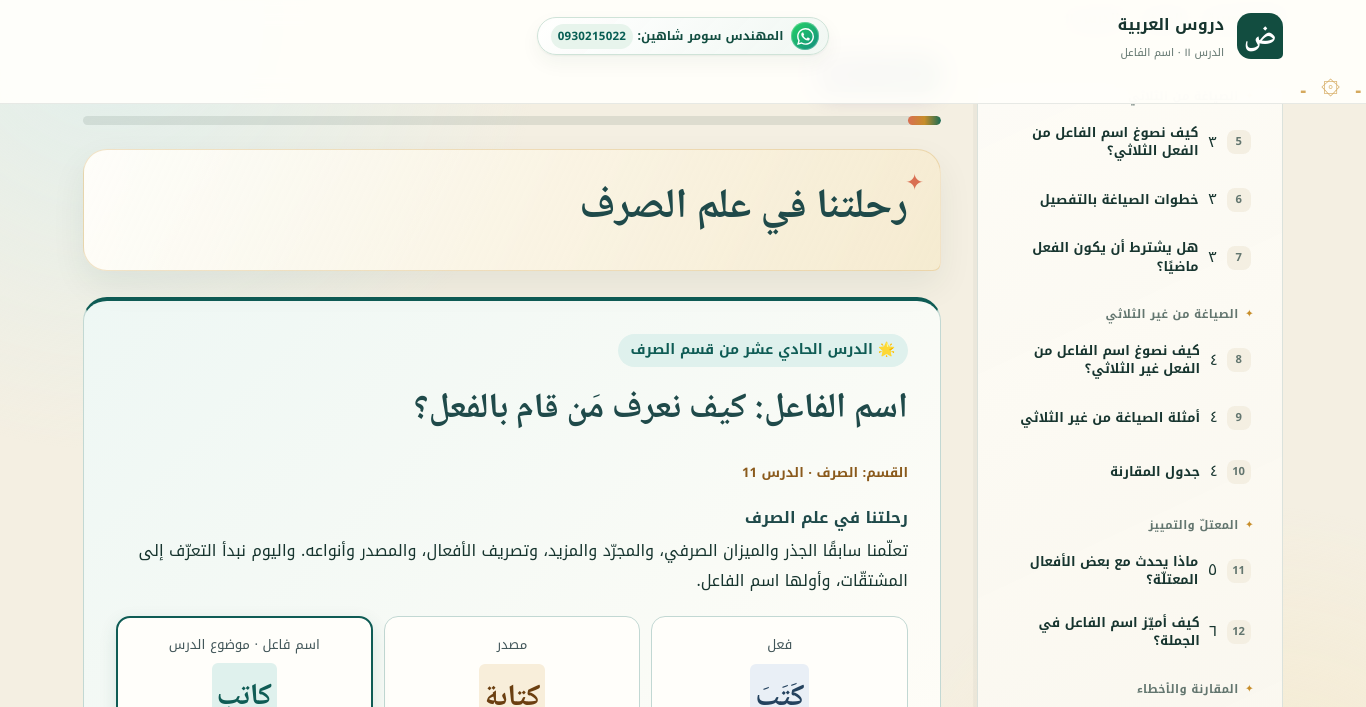
morphology 11 — المسار والتسجيل وعرض المصدر › يعرض أمثلة غير الثلاثي سلاسلَ: الماضي ← المضارع ← اسم الفاعل، مع تنبيه «مُفيدًا»
(page scrolled)
Click the button "9 ٤ أمثلة الصياغة من غير الثلاثي". click: (1130, 418)
box: top-left (998, 393), bottom-right (1262, 442)
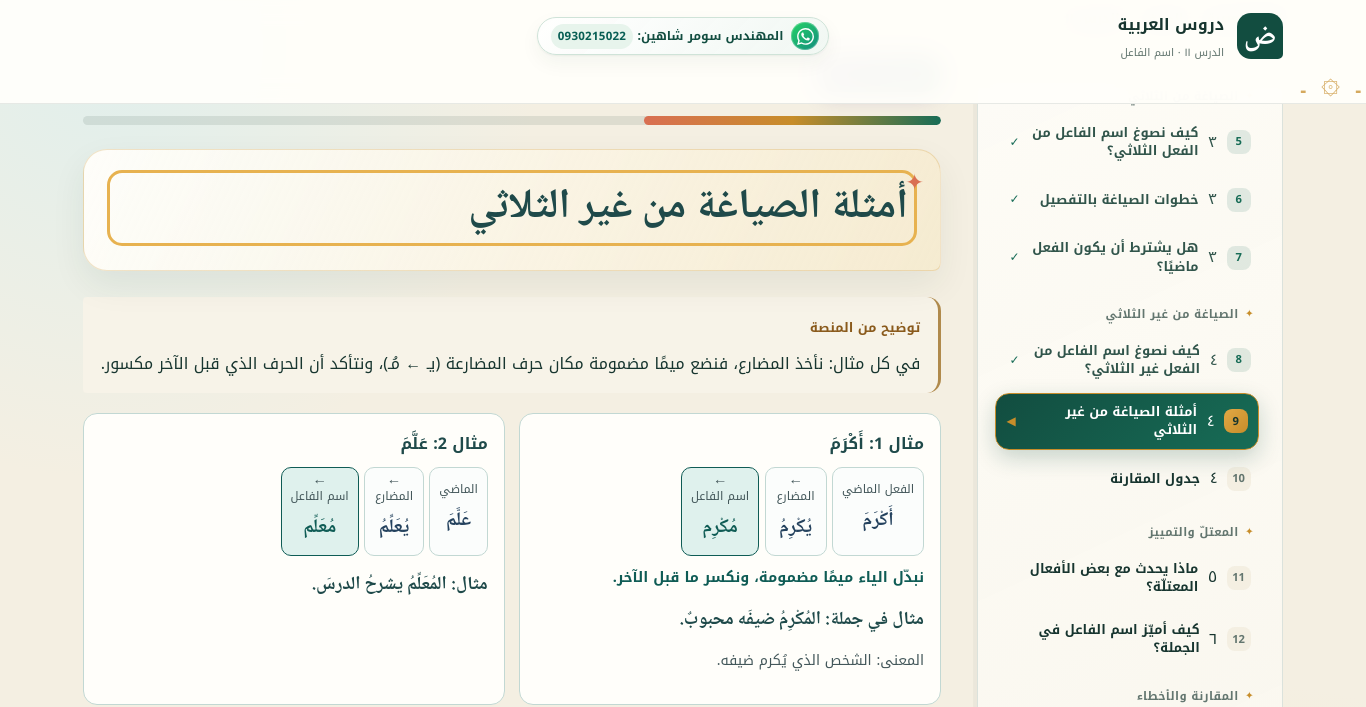
Click the button "12 ٦ كيف أميّز اسم الفاعل في الجملة؟". click: (1130, 639)
box: top-left (998, 611), bottom-right (1262, 667)
(page scrolled)
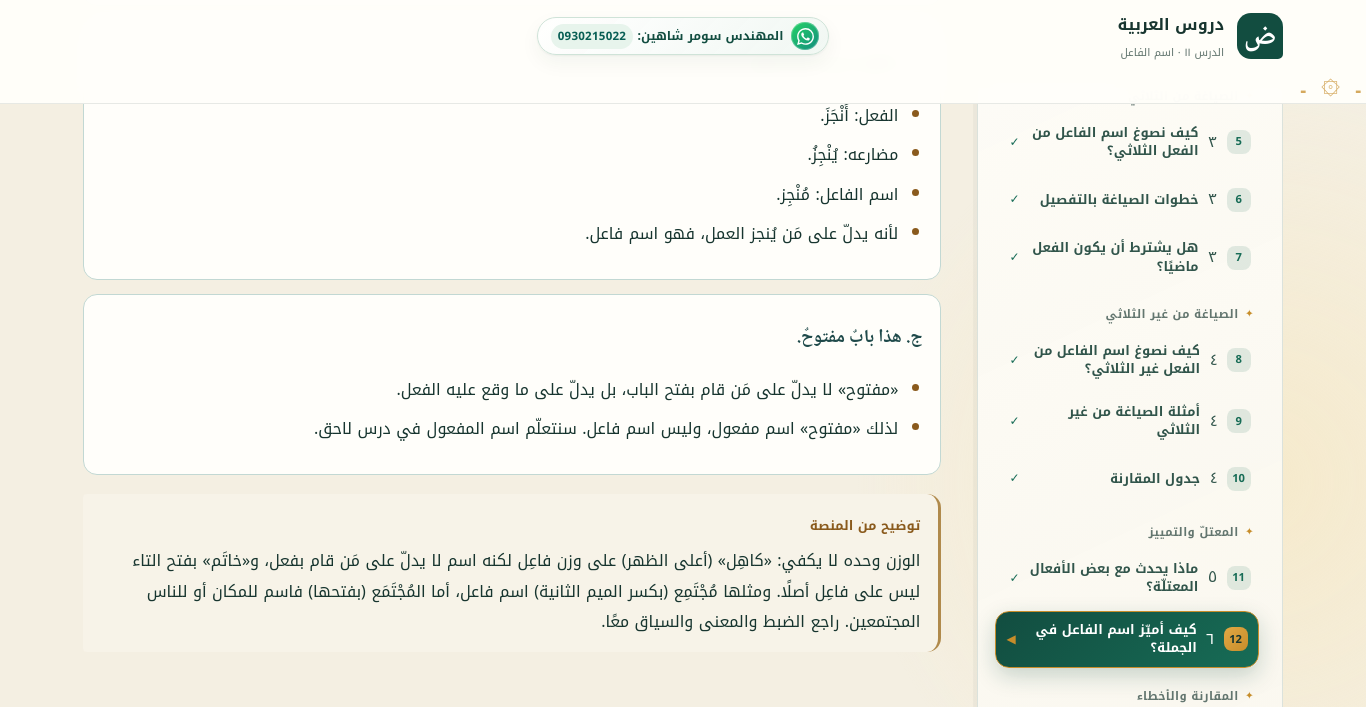
Expected: the element with test id "morph11-analysis-maftuh" shows "اسم مفعول", top-left (314, 413), bottom-right (898, 444)
